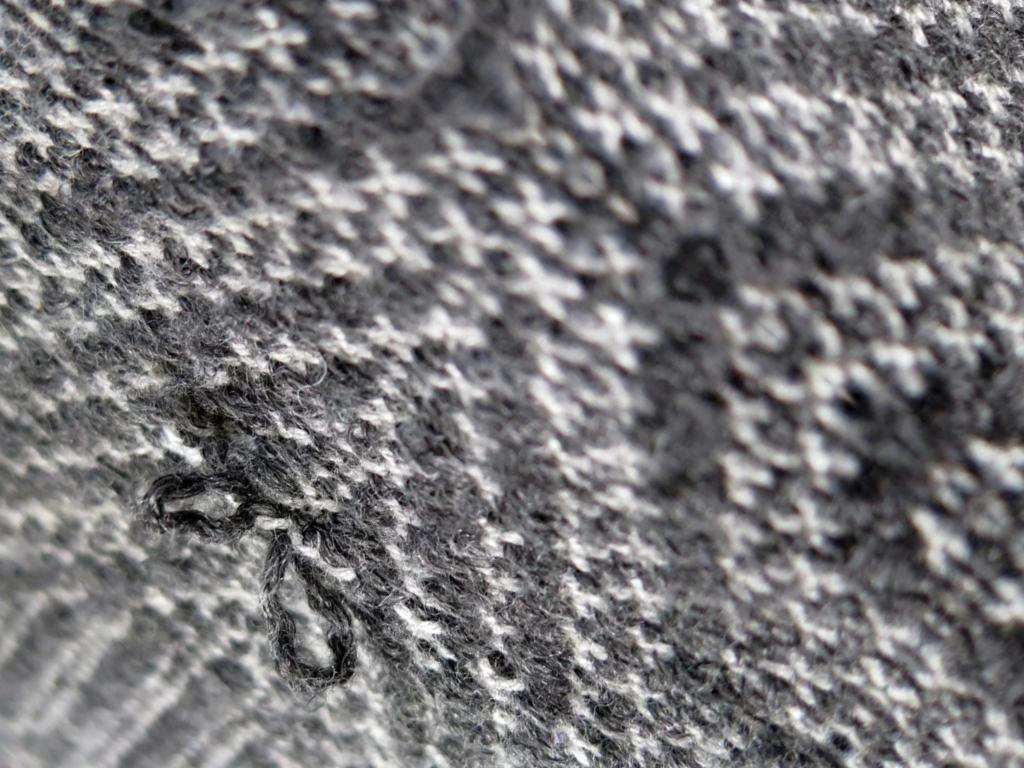snag: (265, 539, 370, 693), (137, 464, 263, 543)
